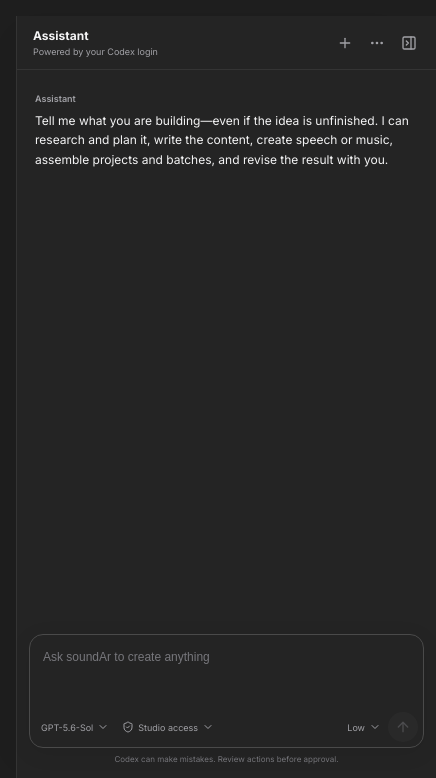
Test: AssistantPane › restores the exact playable preview when a saved task has no final master
Expected: the text box named "Message soundAr assistant" is shown, [30,635,423,709]
Click the button named "Conversation history": (377, 42) [362,28,392,58]
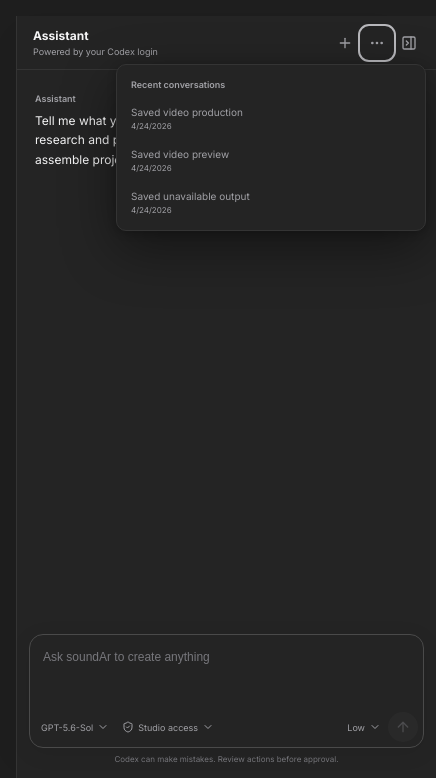
Click the menu item "Saved video preview 4/24/2026": (180, 154) [123,140,419,182]
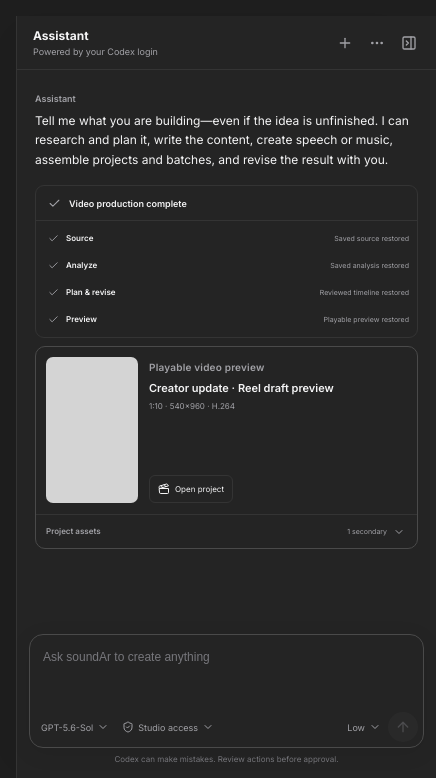
Expected: the menu item "Save " is gone
